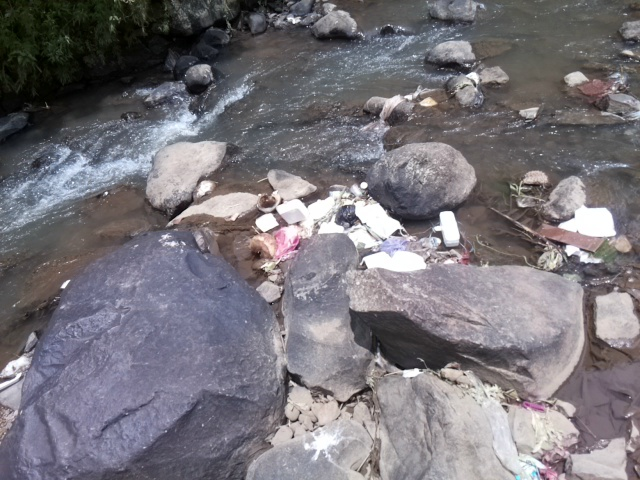Sampah_Plastik: (274, 228, 301, 262), (376, 236, 414, 255), (333, 204, 361, 226)
Sampah_Styrofoam: (355, 200, 404, 238), (569, 203, 620, 239), (360, 249, 431, 272), (438, 208, 463, 250), (276, 201, 310, 223), (254, 213, 280, 230)
